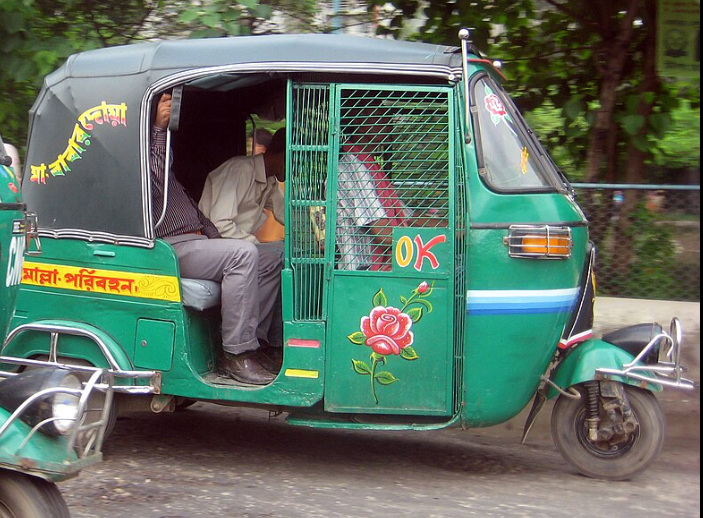cng: (14, 28, 677, 484)
